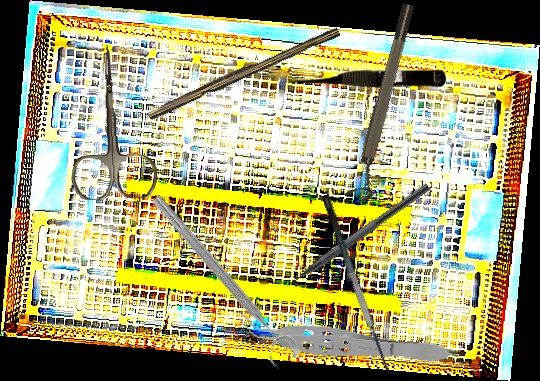Chopper: (273, 173, 431, 296)
Fixation Ring: (138, 190, 304, 373), (343, 2, 427, 203)
Iris Scissors: (66, 43, 158, 201)
Micro Scissor: (286, 65, 448, 90)
Scalpel Handle: (145, 21, 341, 124)
Spatula Surgical: (320, 188, 405, 381)
Tissue Forceps: (235, 311, 451, 371)
